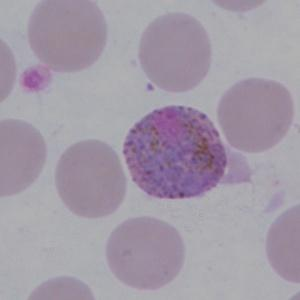Infected: (123, 105, 226, 202)
Uninfected: (105, 215, 186, 290), (28, 0, 108, 75), (140, 12, 212, 93), (55, 137, 126, 219), (219, 76, 294, 153)
